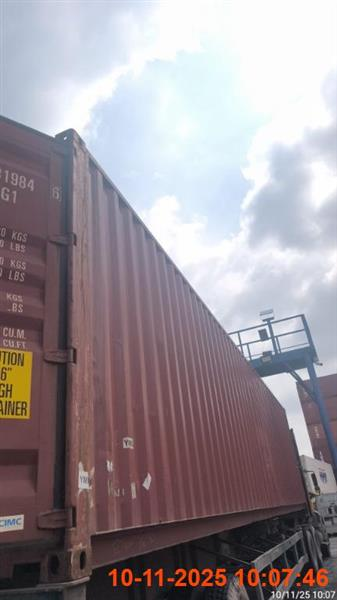dent: (0, 117, 324, 598)
